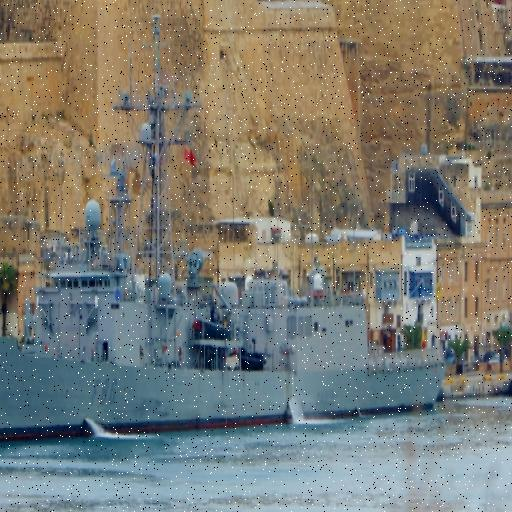Fragata: (1, 11, 455, 455)
